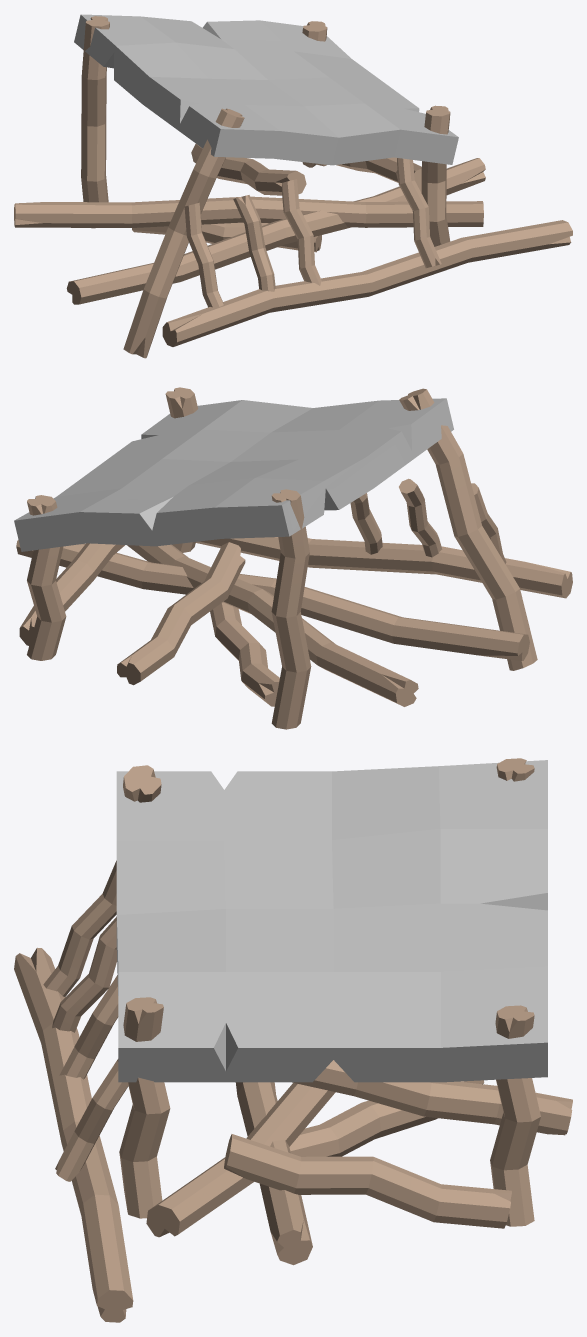
File: BrokenArcherTower.fbx
3 views of the same model, one above another, from view 1: azimuth 30°, elevation 25°; view 2: azimuth 150°, elevation 25°; view 3: azimuth 270°, elevation 25° (orthographic). The views are drawn at different scales.
Visible parts, largest first — view 1: pCube1, pCylinder3, pCylinder15, pCylinder11, pCylinder19.001, pCylinder19, pCylinder17, pCylinder24, pCylinder8.001, pCylinder8, pCylinder10, pCylinder9 (+3 smaller); view 2: pCube1, pCylinder11, pCylinder19.001, pCylinder3, pCylinder19, pCylinder15, pCylinder24, pCylinder20, pCylinder23, pCylinder29, pCylinder9, pCylinder8 (+2 smaller); view 3: pCube1, pCylinder3, pCylinder29, pCylinder24, pCylinder17, pCylinder15, pCylinder20, pCylinder11, pCylinder23, pCylinder10, pCylinder8.001, pCylinder9 (+3 smaller).
Boxes of the visible parts, x1,y1,x2,y2 form: pCube1: (74, 14, 458, 165); pCylinder3: (162, 220, 572, 346); pCylinder15: (14, 196, 483, 227); pCylinder11: (66, 158, 485, 304); pCylinder19.001: (123, 108, 244, 358); pCylinder19: (81, 16, 109, 228); pCylinder17: (421, 105, 450, 246); pCylinder24: (191, 144, 306, 195); pCylinder8.001: (397, 158, 441, 268); pCylinder8: (282, 179, 321, 285); pCylinder10: (184, 202, 223, 307); pCylinder9: (233, 195, 275, 291); pCube1: (14, 398, 453, 551); pCylinder11: (16, 540, 529, 660); pCylinder19.001: (399, 388, 537, 670); pCylinder3: (196, 537, 572, 598); pCylinder19: (271, 489, 311, 729); pCylinder15: (127, 544, 418, 706); pCylinder24: (117, 542, 245, 685); pCylinder20: (27, 495, 66, 660); pCylinder23: (210, 602, 279, 706); pCylinder29: (19, 543, 124, 645); pCylinder9: (399, 478, 442, 557); pCylinder8: (350, 493, 382, 554); pCube1: (116, 760, 547, 1082); pCylinder3: (14, 947, 133, 1322); pCylinder29: (224, 1134, 511, 1228); pCylinder24: (292, 1060, 572, 1135); pCylinder17: (119, 997, 170, 1218); pCylinder15: (146, 1083, 335, 1237); pCylinder20: (490, 1005, 540, 1226); pCylinder11: (235, 1082, 312, 1265); pCylinder23: (289, 1080, 484, 1156); pCylinder10: (43, 860, 116, 996); pCylinder8.001: (55, 1059, 128, 1181); pCylinder9: (52, 917, 116, 1032).
Size of the model in its own units: 8.67 by 4.13 by 6.13.
